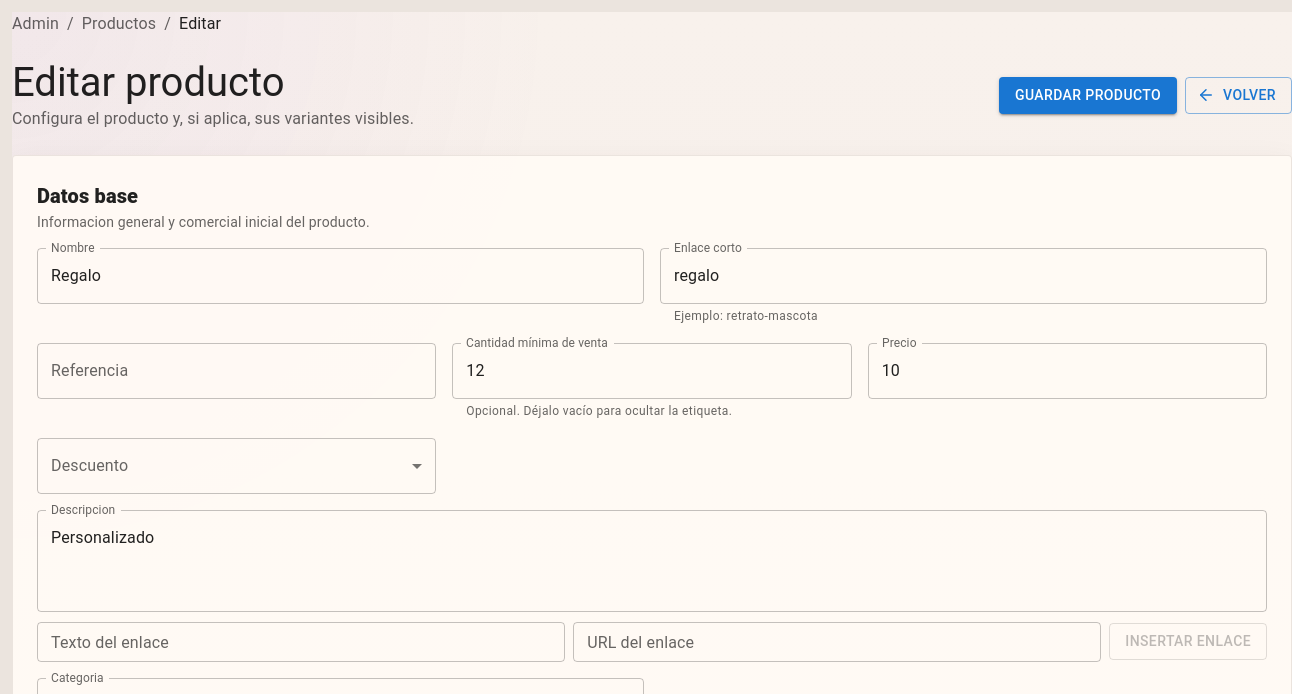
Scenario: minimum sale quantity form › rejects invalid minimum '-1' before saving
Replace the text in the field labelled "Cantidad mínima de venta" with "-1" at (652, 371), box left=452, top=343, right=852, bottom=399
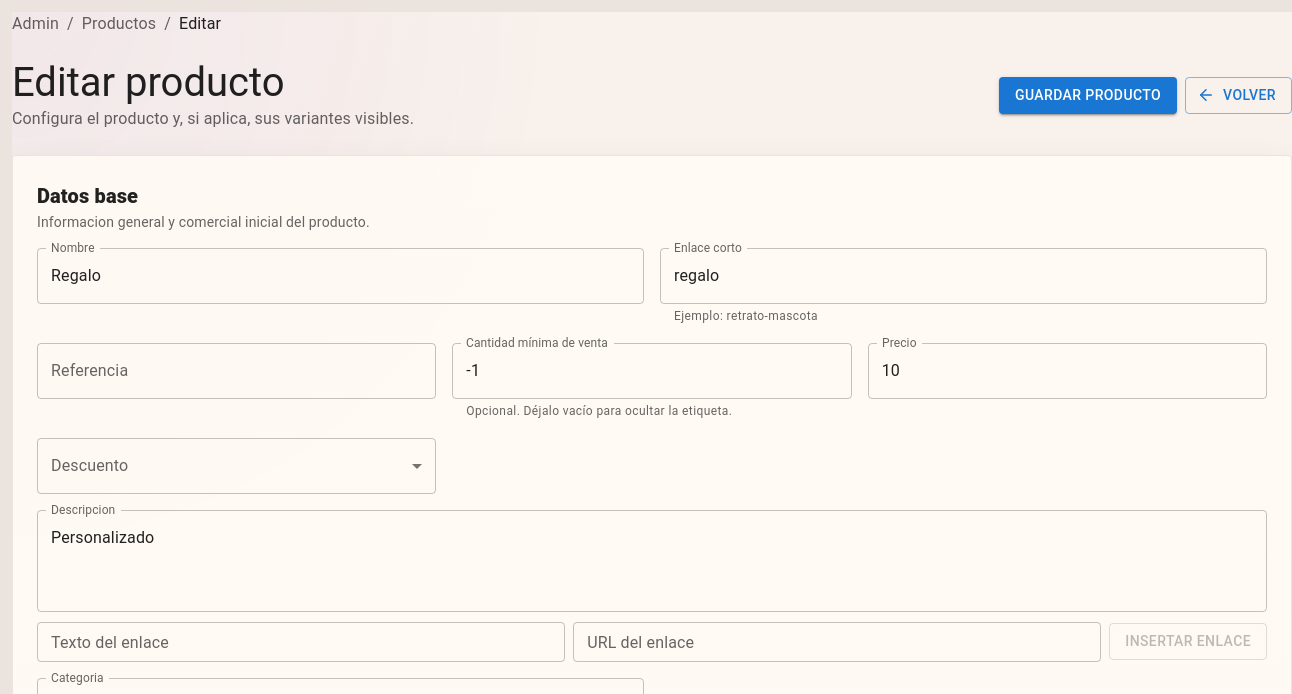
Click the button "Guardar producto".
click(1088, 95)  # box left=999, top=77, right=1177, bottom=114
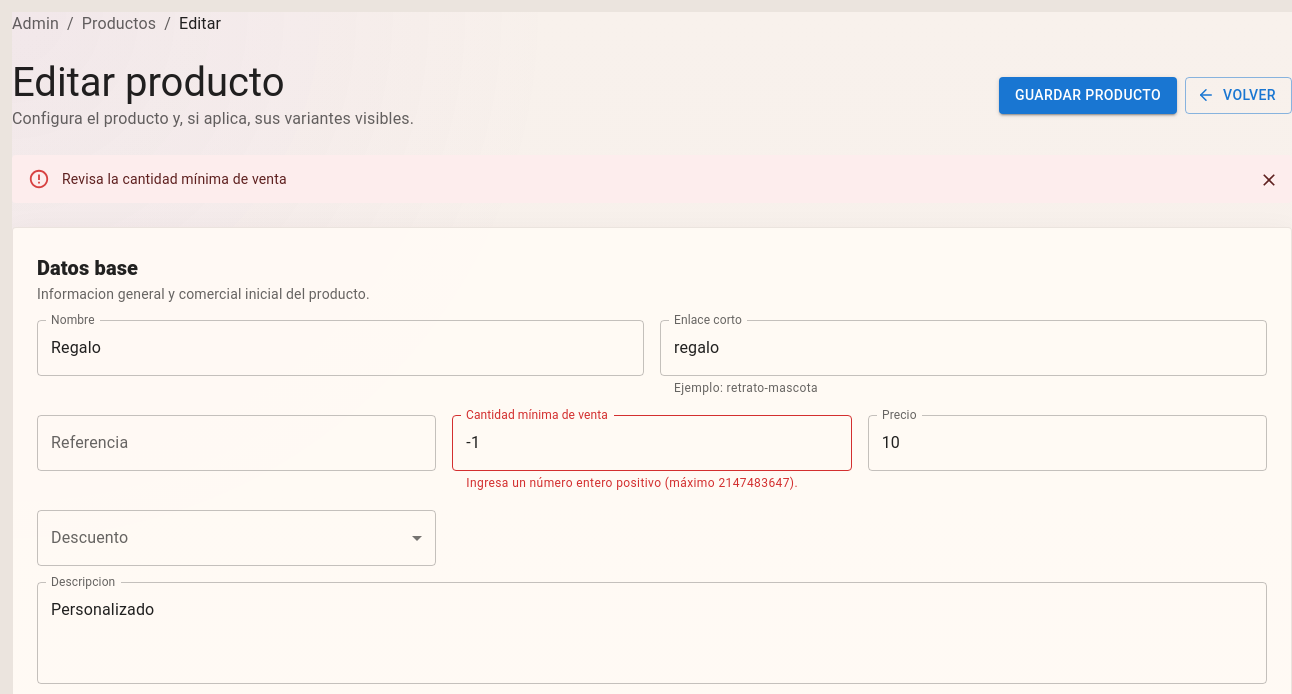
Expected: the text "Ingresa un número entero positivo (máximo 2147483647)." is shown, left=466, top=474, right=838, bottom=494
